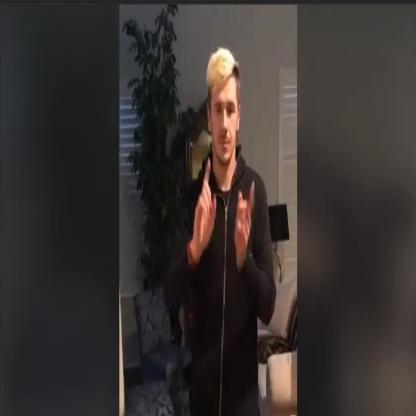NiceToMeetYou: (190, 143, 263, 279)
